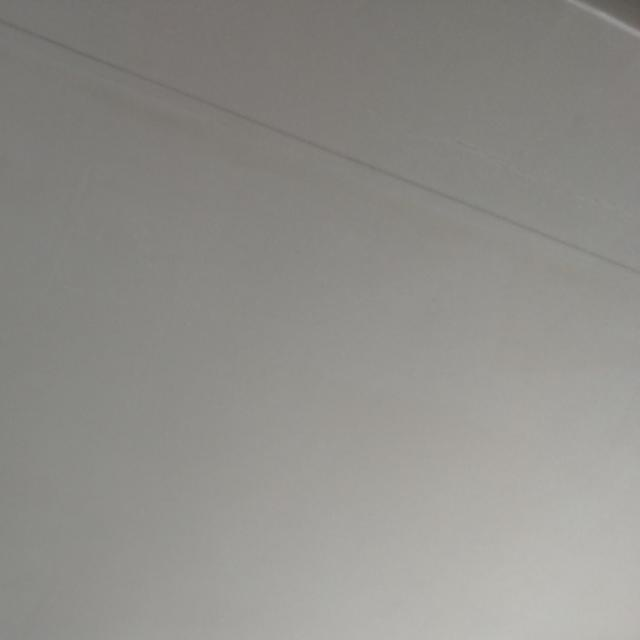fluorescent tube: (0, 576, 400, 639)
